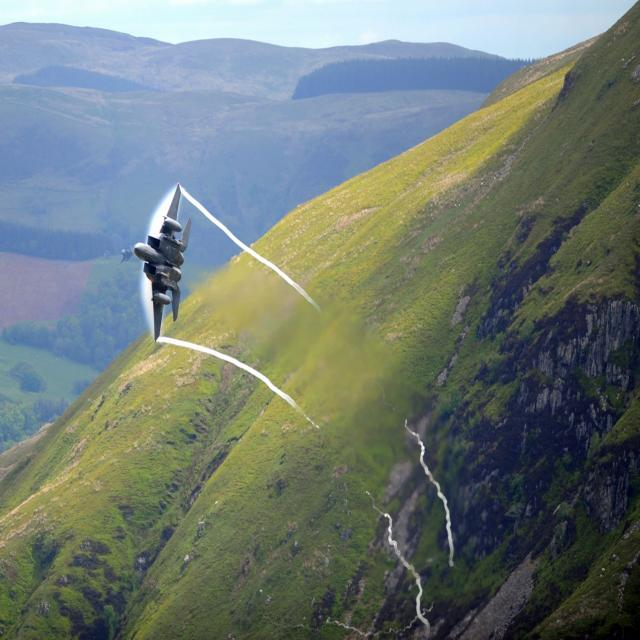MIL_Plane: (133, 182, 192, 344), (120, 245, 134, 264)
